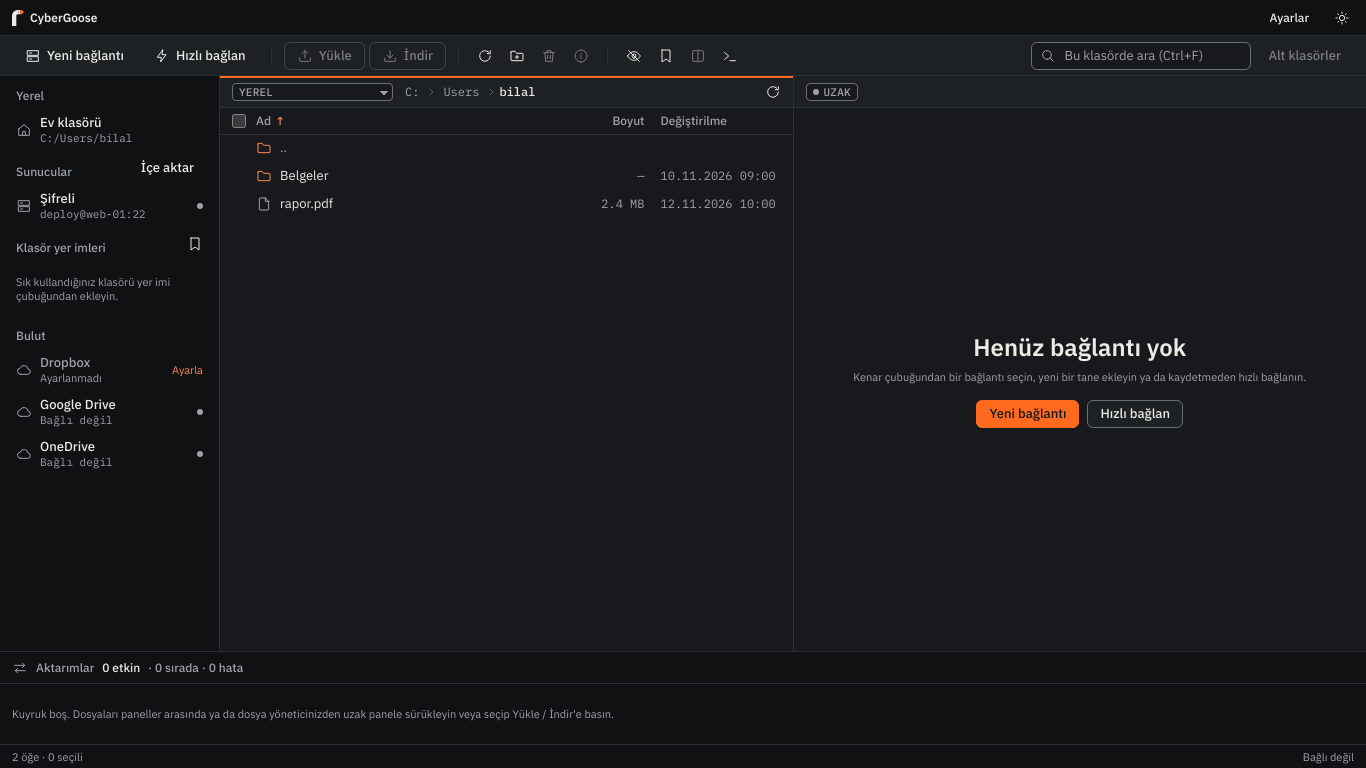
Scenario: CyberGoose application window › opens the connection dialog when the stored key needs a passphrase
The width and height of the screenshot is (1366, 768).
Click the button "Şifreli deploy@web-01:22": (110, 206) [8,186,211,226]
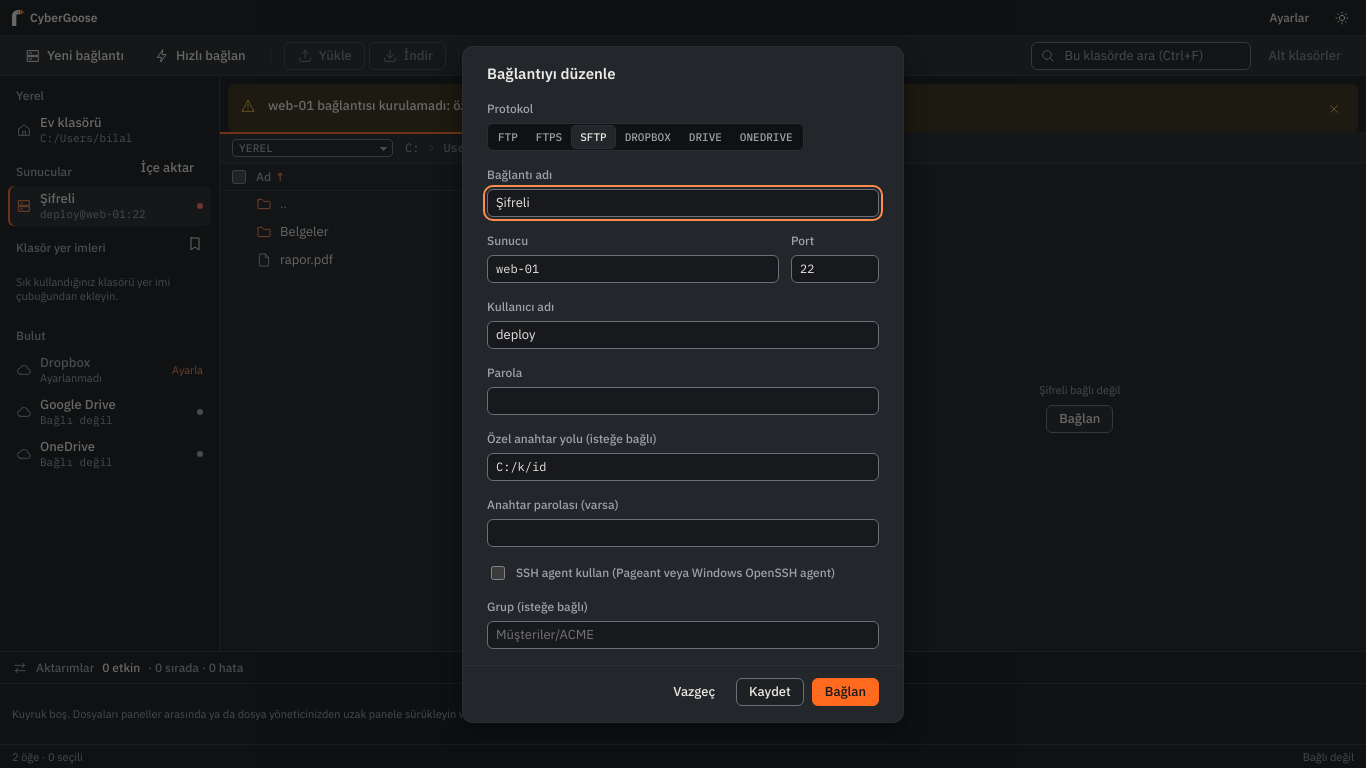
Expected: the dialog "Bağlantıyı düzenle" is shown, [463,46,903,722]
Expected: the password field labelled "Anahtar parolası (varsa)" is shown, [487,518,879,546]
Expected: the text "özel anahtar parola korumalı" is shown, [268,97,773,114]
